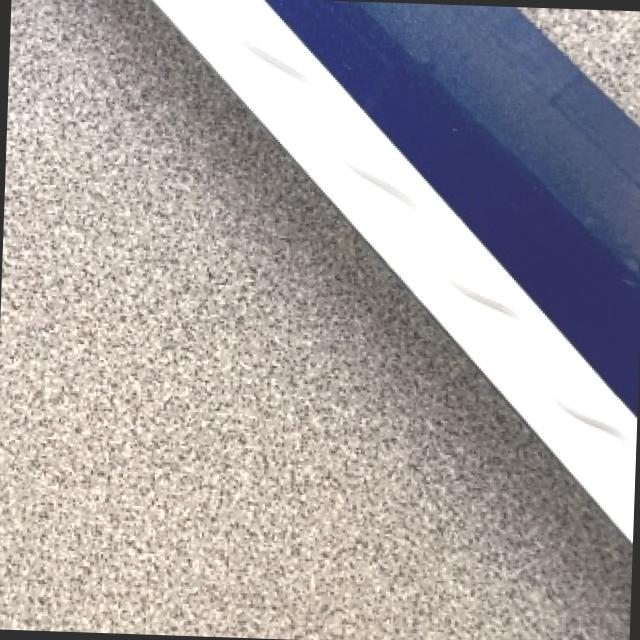healthy: (0, 0, 630, 640), (151, 0, 639, 536)
